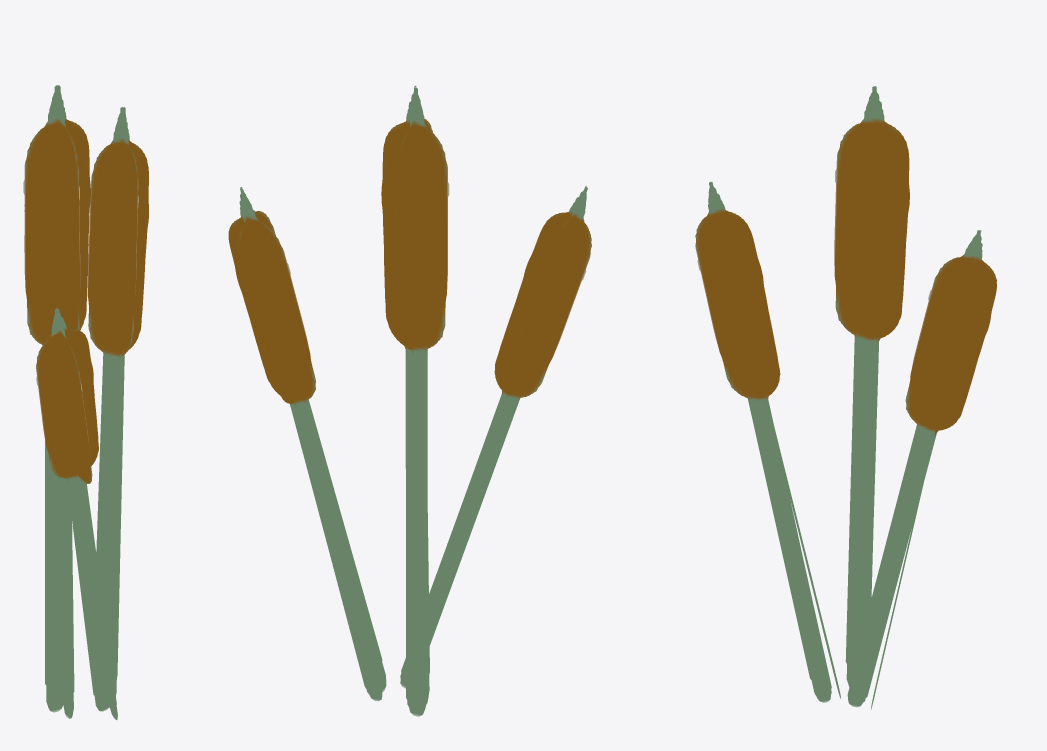
File: cat_tail.fbx
3 views of the same model, side by side, from view 1: azimuth 30°, elevation 25°; view 2: azimuth 150°, elevation 25°; view 3: azimuth 270°, elevation 25° (orthographic). The views are drawn at different scales.
Parts seen in each view (by area): view 1: polySurface18; view 2: polySurface18; view 3: polySurface18.
Boxes of the visible parts, <box> form: polySurface18: <box>23,85,148,719</box>; polySurface18: <box>228,85,591,716</box>; polySurface18: <box>695,86,996,709</box>.
Bounding box in the file's own units: 0.3022 × 0.6858 × 0.3406.
